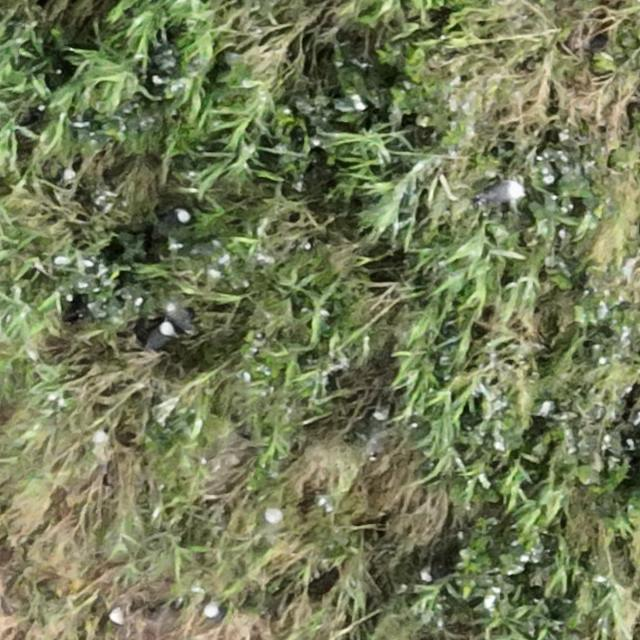umineko: (145, 323, 174, 351), (481, 183, 521, 203)
